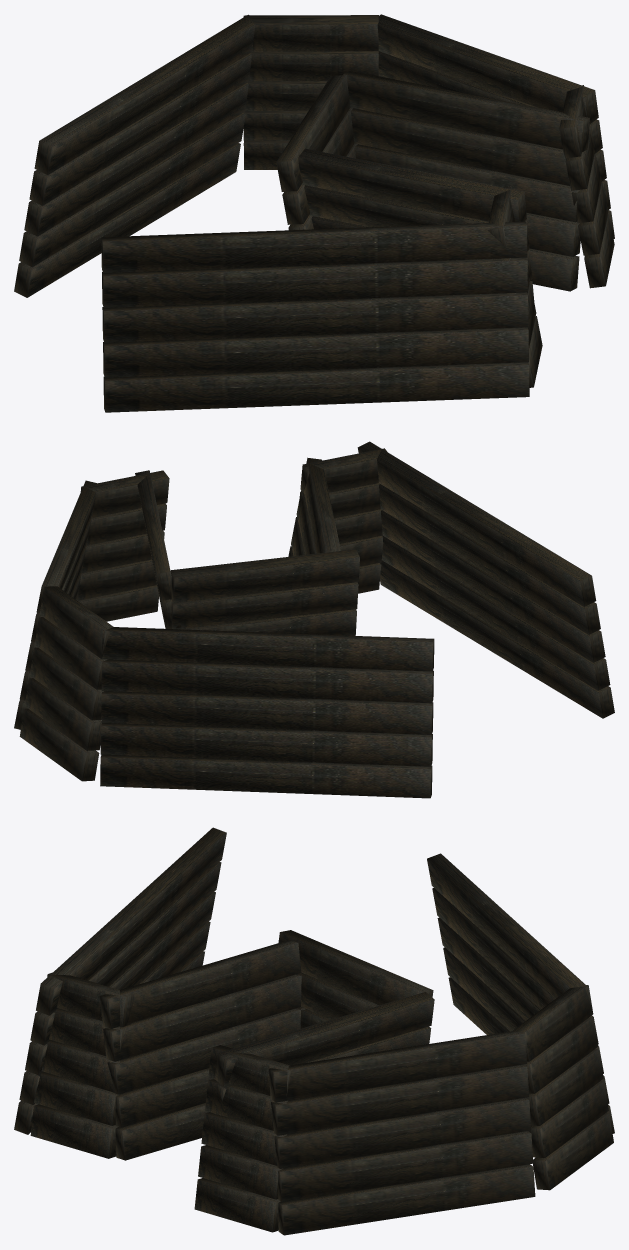
File: WoodenBarrierPartTest11.obj
The picture shows the model from 3 angles, top to bottom: view 1: azimuth 30°, elevation 25°; view 2: azimuth 150°, elevation 25°; view 3: azimuth 270°, elevation 25°; orthographic projection. The views are drawn at different scales.
Visible parts, largest first — view 1: Box010; view 2: Box010; view 3: Box010.
Boxes of the visible parts, x1,y1,x2,y2 form: Box010: [14, 14, 614, 412]; Box010: [14, 441, 614, 798]; Box010: [14, 827, 614, 1235].
Bounding box in the file's own units: 233 × 63.84 × 226.
